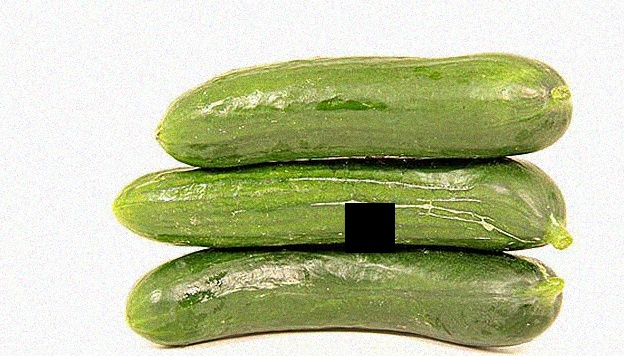cucumber: (160, 44, 573, 166), (126, 253, 568, 350), (109, 159, 564, 247)
